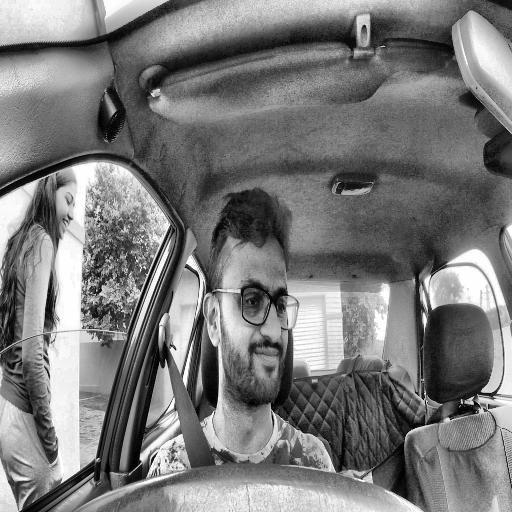awake: (202, 187, 300, 408)
